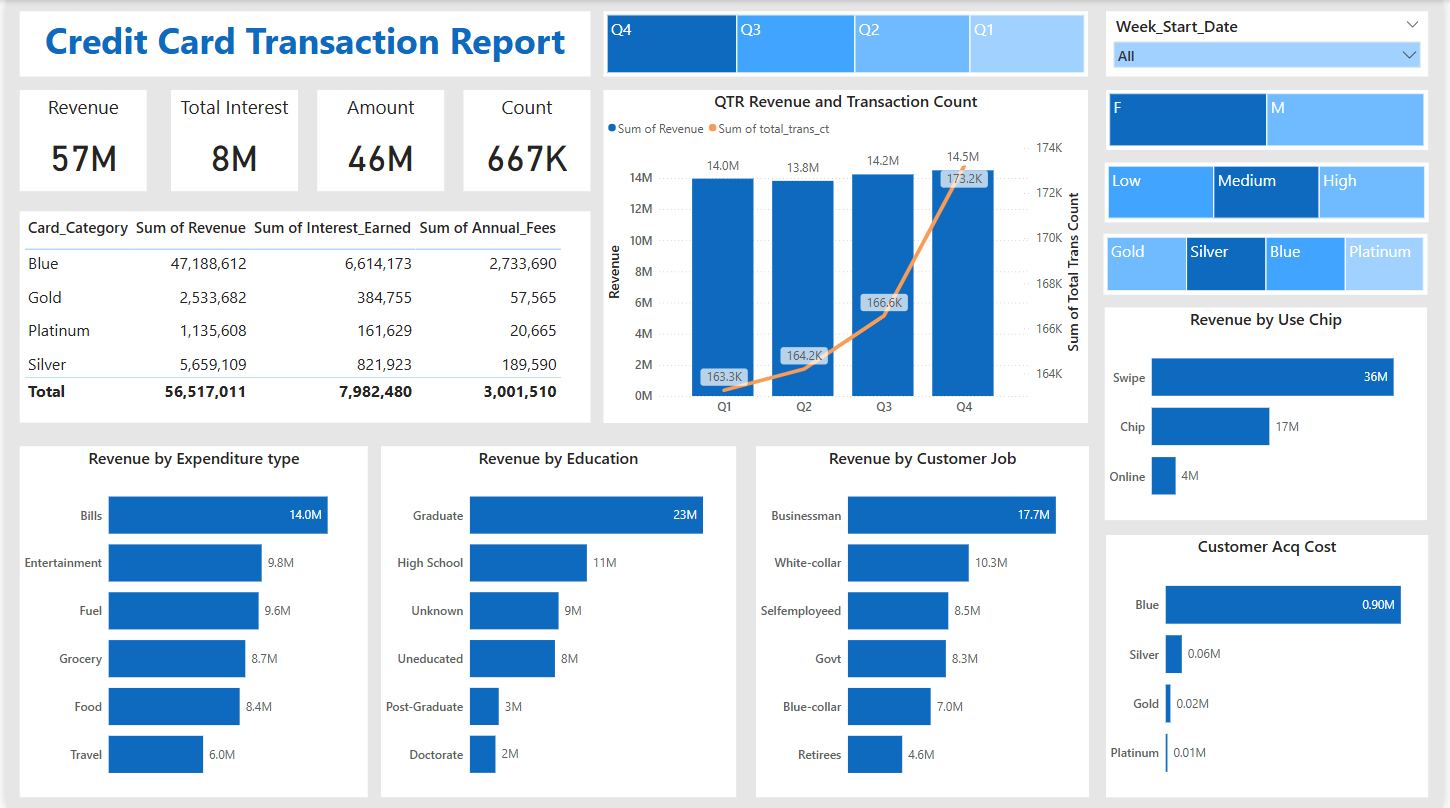

What the dashboard file says about the page in this screenshot:
{"tool":"powerbi","page":{"name":"CC Transaction","canvas":[1920,1080],"ordinal":1},"visuals":[{"type":"textbox","box":[18.2,14.6,762.3,87.5],"z":0},{"type":"lineStackedColumnComboChart","title":"QTR Revenue and Transaction Count","fields":{"Category":["public cc_detail.qtr"],"Y":["Sum(public cc_detail.Revenue)"],"Y2":["Sum(public cc_detail.total_trans_ct)"]},"box":[798.8,120.4,647.4,445],"z":1000},{"type":"barChart","title":"Revenue by Expenditure type","fields":{"Y":["Sum(public cc_detail.Revenue)"],"Category":["public cc_detail.exp_type"]},"box":[18.2,596.4,465,468.7],"z":2000},{"type":"barChart","title":"Revenue by Education","fields":{"Y":["Sum(public cc_detail.Revenue)"],"Category":["public cust_detail.education_level"]},"box":[501.5,596.4,474.2,468.7],"z":3000},{"type":"barChart","title":"Revenue by Customer Job","fields":{"Y":["Sum(public cc_detail.Revenue)"],"Category":["public cust_detail.customer_job"]},"box":[1001.2,596.4,445,468.7],"z":4000},{"type":"barChart","title":"Customer Acq Cost","fields":{"Y":["Sum(public cc_detail.customer_acq_cost)"],"Category":["public cc_detail.card_category"]},"box":[1469.9,714.9,430.4,350.2],"z":5000},{"type":"tableEx","fields":{"Values":["public cc_detail.card_category","Sum(public cc_detail.Revenue)","Sum(public cc_detail.interest_earned)","Sum(public cc_detail.annual_fees)"]},"box":[18.2,282.7,762.3,282.7],"z":6000},{"type":"cardVisual","title":"Revenue","fields":{"Data":["Sum(public cc_detail.Revenue)"]},"box":[18.2,120.4,169.6,135],"z":7000},{"type":"cardVisual","title":"Amount","fields":{"Data":["Sum(public cc_detail.total_trans_amt)"]},"box":[415.8,120.4,169.6,135],"z":8000},{"type":"cardVisual","title":"Total Interest","fields":{"Data":["Sum(public cc_detail.interest_earned)"]},"box":[220.7,120.4,169.6,135],"z":9000},{"type":"cardVisual","title":"Count","fields":{"Data":["Sum(public cc_detail.total_trans_ct)"]},"box":[610.9,120.4,169.6,135],"z":10000},{"type":"treemap","fields":{"Group":["public cc_detail.qtr"],"Values":["Avg(public cc_detail.client_num)"]},"box":[798.8,14.6,647.4,87.5],"z":11000},{"type":"treemap","fields":{"Values":["Avg(public cc_detail.client_num)"],"Group":["public cust_detail.gender"]},"box":[1469.9,120.4,430,80],"z":12000},{"type":"treemap","fields":{"Values":["Avg(public cc_detail.client_num)"],"Group":["public cust_detail.IncomeGroup"]},"box":[1467.6,217.2,432.5,79.6],"z":13000},{"type":"treemap","fields":{"Values":["Avg(public cc_detail.client_num)"],"Group":["public cc_detail.card_category"]},"box":[1465.8,313.1,432.5,81.4],"z":14000},{"type":"slicer","fields":{"Values":["public cc_detail.week_start_date"]},"box":[1469.9,14.6,430.4,87.5],"z":15000},{"type":"barChart","title":"Revenue by Use Chip","fields":{"Y":["Sum(public cc_detail.Revenue)"],"Category":["public cc_detail.use_chip"]},"box":[1467.6,410.8,430.7,284.1],"z":16000}]}

Visuals, with their boxes in screenshot pixels (x1, y1, x2, y2), scaled from the page's 1920x1080 canvas onto the 1450x808 screenshot:
textbox: (left=14, top=11, right=589, bottom=76)
"QTR Revenue and Transaction Count" lineStackedColumnComboChart: (left=603, top=90, right=1092, bottom=423)
"Revenue by Expenditure type" barChart: (left=14, top=446, right=365, bottom=797)
"Revenue by Education" barChart: (left=379, top=446, right=737, bottom=797)
"Revenue by Customer Job" barChart: (left=756, top=446, right=1092, bottom=797)
"Customer Acq Cost" barChart: (left=1110, top=535, right=1435, bottom=797)
tableEx - public cc_detail.card_category x Sum(public cc_detail.Revenue): (left=14, top=212, right=589, bottom=423)
"Revenue" cardVisual: (left=14, top=90, right=142, bottom=191)
"Amount" cardVisual: (left=314, top=90, right=442, bottom=191)
"Total Interest" cardVisual: (left=167, top=90, right=295, bottom=191)
"Count" cardVisual: (left=461, top=90, right=589, bottom=191)
treemap - public cc_detail.qtr x Avg(public cc_detail.client_num): (left=603, top=11, right=1092, bottom=76)
treemap - Avg(public cc_detail.client_num) x public cust_detail.gender: (left=1110, top=90, right=1435, bottom=150)
treemap - Avg(public cc_detail.client_num) x public cust_detail.IncomeGroup: (left=1108, top=162, right=1435, bottom=222)
treemap - Avg(public cc_detail.client_num) x public cc_detail.card_category: (left=1107, top=234, right=1434, bottom=295)
slicer - public cc_detail.week_start_date: (left=1110, top=11, right=1435, bottom=76)
"Revenue by Use Chip" barChart: (left=1108, top=307, right=1434, bottom=520)
